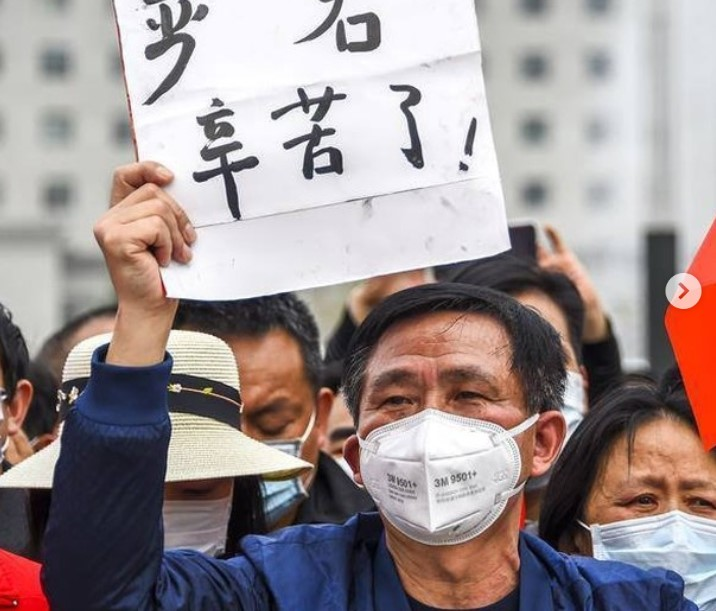face_with_mask: (348, 288, 567, 553), (556, 381, 716, 611), (160, 329, 271, 558), (223, 292, 332, 518)
